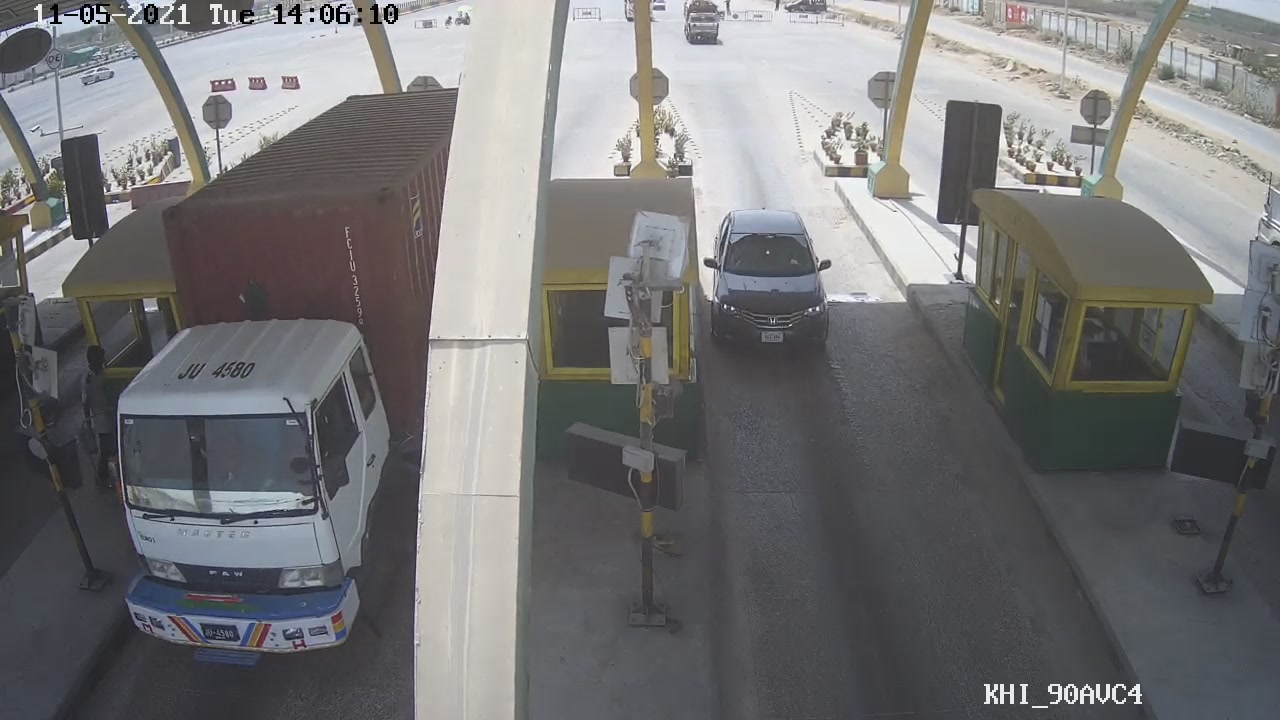F1: (701, 201, 848, 370)
